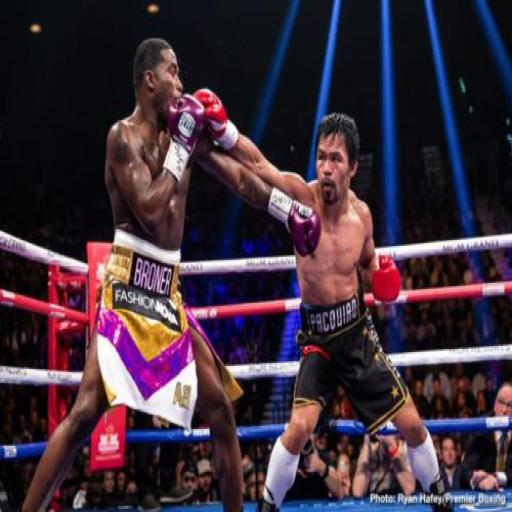boxing: (11, 36, 323, 510), (172, 86, 459, 511)
